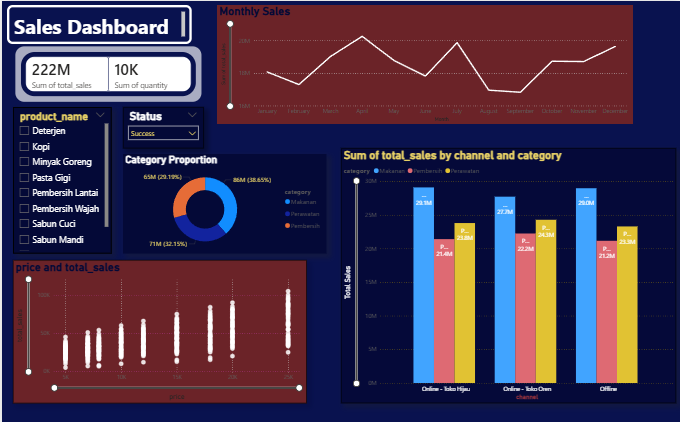

This screenshot's page, from the dashboard's own definition file:
{"tool":"powerbi","page":{"name":"Page 1","canvas":[1444,900],"ordinal":0},"visuals":[{"type":"clusteredColumnChart","fields":{"Category":["Sales Data.channel"],"Y":["Sum(Sales Data.total_sales)"],"Series":["Sales Data.category"]},"box":[721.7,313.3,713.3,543.3],"z":0},{"type":"lineChart","title":"Monthly Sales","fields":{"Category":["Sales Data.sales_date.Variation.Date Hierarchy.Month"],"Y":["Sum(Sales Data.total_sales)"]},"box":[456.7,8.3,883.3,253.3],"z":1000},{"type":"scatterChart","fields":{"X":["Sales Data.price"],"Y":["Sales Data.total_sales"]},"box":[23.3,551.7,625,305],"z":2000},{"type":"cardVisual","fields":{"Data":["Sum(Sales Data.total_sales)","Sum(Sales Data.quantity)"]},"box":[23.3,91.7,406.7,128.3],"z":3000},{"type":"donutChart","title":"Category Proportion","fields":{"Category":["Sales Data.category"],"Y":["Sum(Sales Data.total_sales)"]},"box":[258.3,325,433.3,211.7],"z":4000},{"type":"slicer","fields":{"Values":["Sales Data.product_name"]},"box":[23.3,225,210,311.7],"z":5000},{"type":"slicer","fields":{"Values":["Sales Data.status"]},"box":[258.3,225,171.7,88.3],"z":6000},{"type":"textbox","box":[11.7,8.3,393.3,83.3],"z":7000}]}

Visuals, with their boxes in screenshot pixels (x1, y1, x2, y2), scaled from the page's 1444x900 canvas onto the 680x422 screenshot:
clusteredColumnChart - Sales Data.channel x Sum(Sales Data.total_sales): [x1=340, y1=147, x2=676, y2=402]
"Monthly Sales" lineChart: [x1=215, y1=4, x2=631, y2=123]
scatterChart - Sales Data.price x Sales Data.total_sales: [x1=11, y1=259, x2=305, y2=402]
cardVisual - Sum(Sales Data.total_sales) x Sum(Sales Data.quantity): [x1=11, y1=43, x2=202, y2=103]
"Category Proportion" donutChart: [x1=122, y1=152, x2=326, y2=252]
slicer - Sales Data.product_name: [x1=11, y1=106, x2=110, y2=252]
slicer - Sales Data.status: [x1=122, y1=106, x2=202, y2=147]
textbox: [x1=6, y1=4, x2=191, y2=43]
